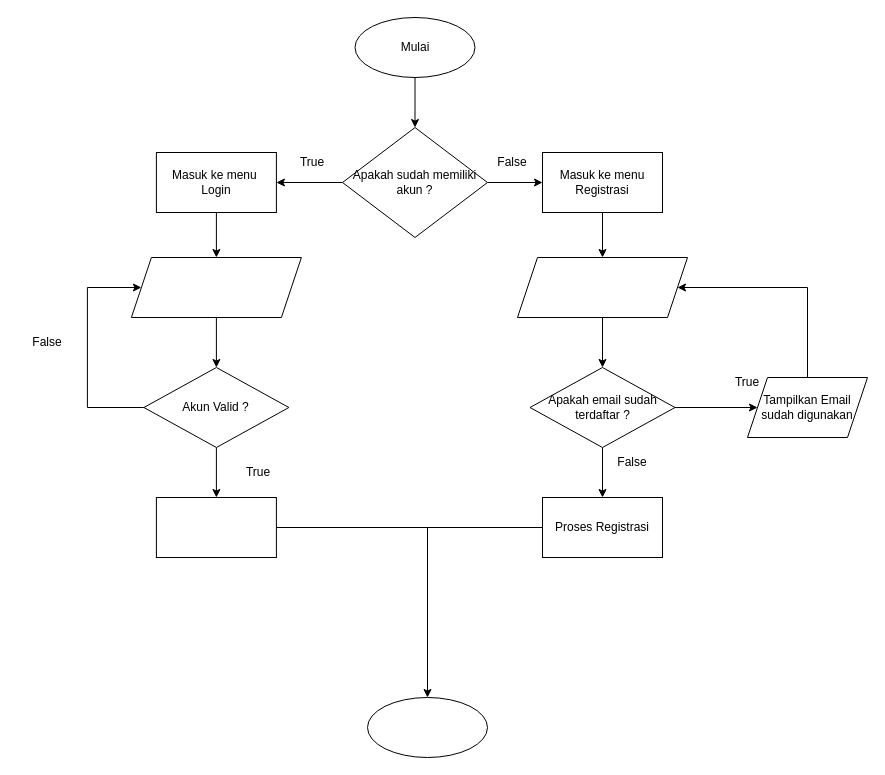
Image size: 885x775. Some labels were removed from this diagram. The centre of each missing label's shape, as x and y in pixels:
"Masukkan Nama, E-Mail dan Password" goes at point 602,287.
"Masukkan Username dan Password" goes at point 215,287.
"Proses Login" goes at point 215,527.
"Selesai" goes at point 427,727.
